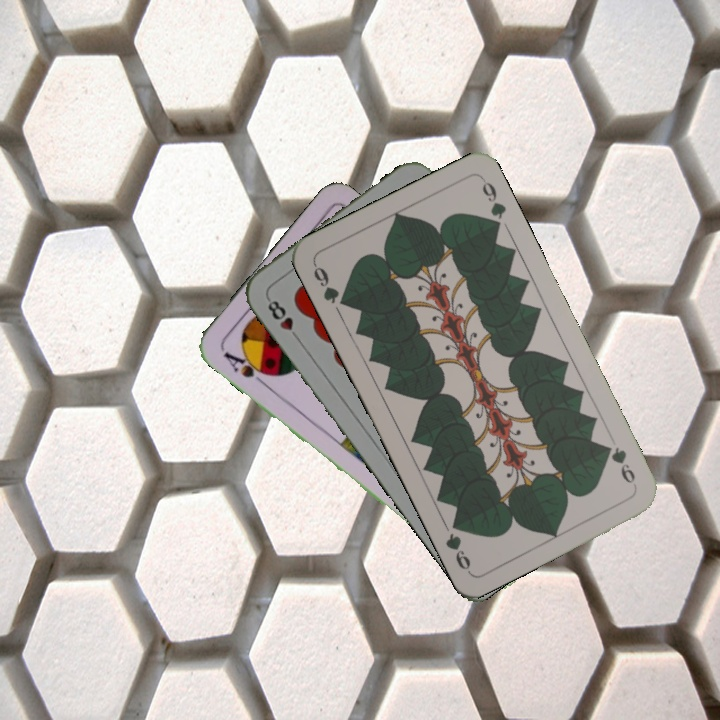G9: (309, 259, 351, 309), (599, 440, 639, 490)
H8: (263, 294, 303, 344)
SA: (219, 347, 274, 388)
